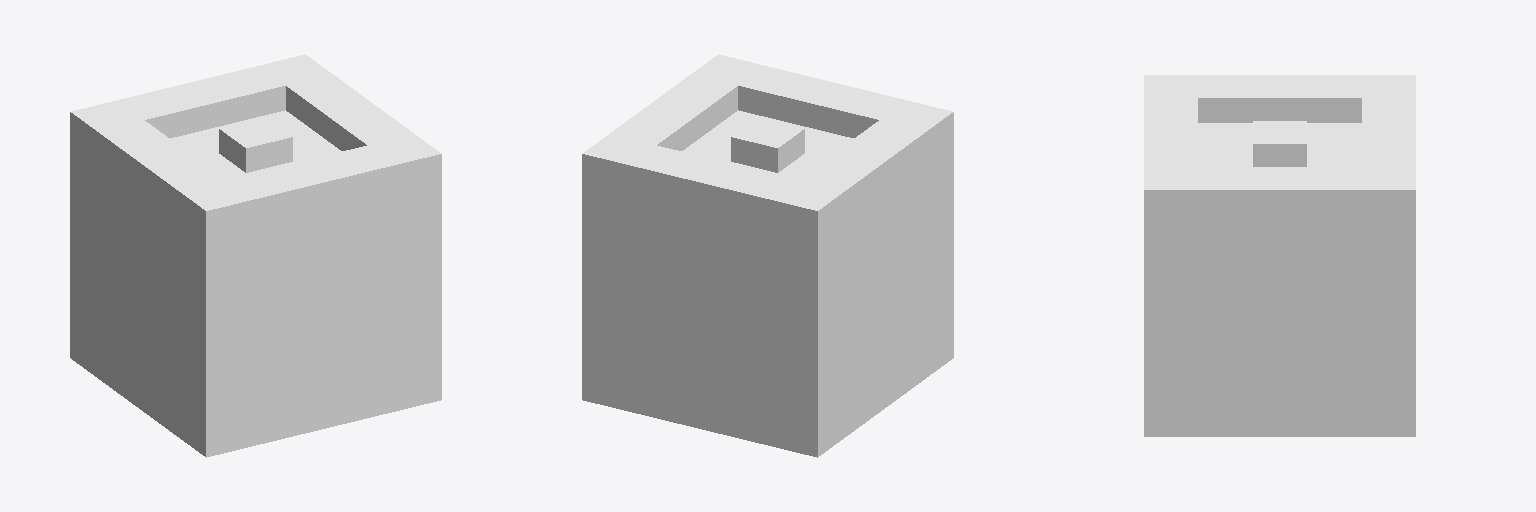
File: Stabilizer.obj
3 renders of one model, left to right at view 1: azimuth 30°, elevation 25°; view 2: azimuth 150°, elevation 25°; view 3: azimuth 270°, elevation 25°, orthographic.
Parts seen in each view (by area): view 1: object 1; view 2: object 1; view 3: object 1.
Part boxes in pixels (x1,y1,x2,y2): object 1: (70, 54, 441, 457); object 1: (582, 54, 953, 457); object 1: (1144, 75, 1415, 436).
Bounding box in the file's own units: 1 × 1 × 1.